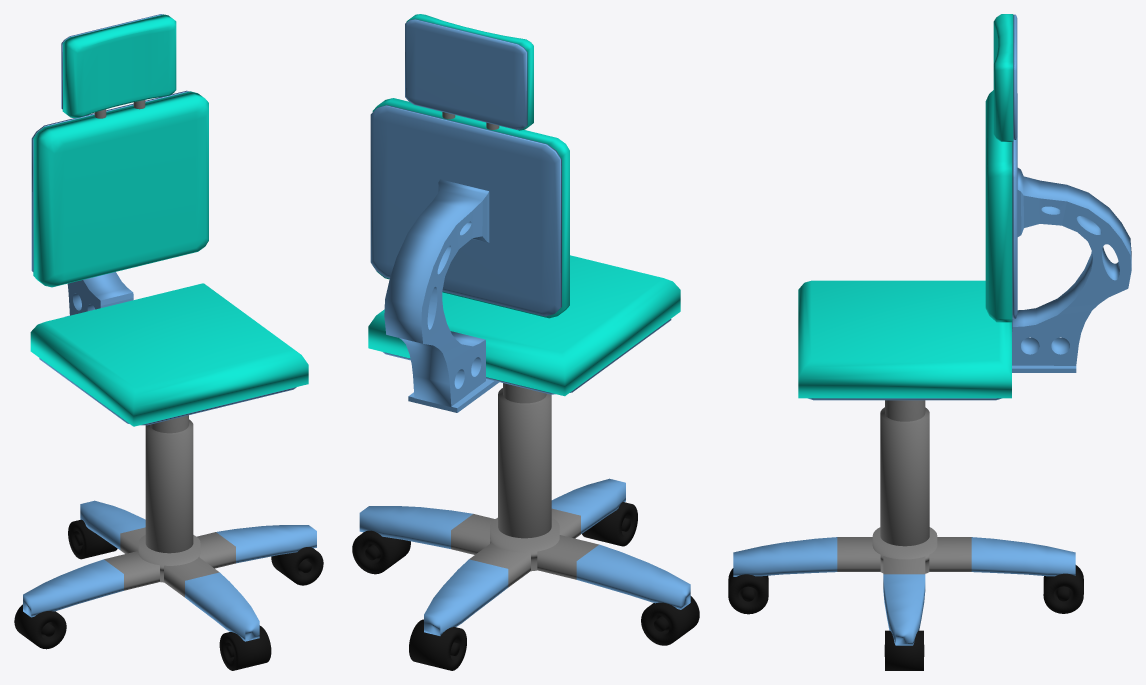
Rendered from chair_tier12.fbx.
The picture shows the model from 3 angles, left to right: view 1: azimuth 30°, elevation 25°; view 2: azimuth 150°, elevation 25°; view 3: azimuth 270°, elevation 25°; orthographic projection. The views are drawn at different scales.
Parts seen in each view (by area): view 1: Cube.007, Cube, Cube.009, Cube.002, Cube.001, Cylinder.001, Cube.006, Cylinder.005, Cylinder.004, Cylinder.003, Cylinder.006, Cylinder.002 (+3 smaller); view 2: Cube.005, Cube, Cube.006, Cube.008, Cube.002, Cube.001, Cylinder.001, Cube.007, Cylinder.006, Cylinder.004, Cylinder.003, Cylinder.005 (+4 smaller); view 3: Cube, Cube.006, Cube.001, Cylinder.001, Cube.007, Cube.002, Cube.009, Cylinder.006, Cylinder.005, Cylinder.003, Cylinder.002, Cube.005 (+2 smaller).
Boxes of the visible parts, x1,y1,x2,y2 form: Cube.007: (33,91,208,287); Cube: (30,283,308,426); Cube.009: (62,14,176,118); Cube.002: (23,525,316,617); Cube.001: (80,500,259,641); Cylinder.001: (145,419,193,553); Cube.006: (67,272,133,315); Cylinder.005: (219,625,271,670); Cylinder.004: (14,604,66,649); Cylinder.003: (271,547,323,585); Cylinder.006: (68,519,117,559); Cylinder.002: (138,535,200,582); Cube.005: (370,105,561,316); Cube: (368,255,680,396); Cube.006: (384,179,489,406); Cube.008: (405,19,527,129); Cube.002: (359,506,690,609); Cube.001: (424,478,625,635); Cylinder.001: (498,388,551,538); Cube.007: (372,98,569,318); Cylinder.006: (409,619,466,670); Cylinder.004: (641,596,699,645); Cylinder.003: (352,530,410,574); Cylinder.005: (582,502,637,546); Cube: (798,280,1011,398); Cube.006: (1012,168,1131,365); Cube.001: (733,537,1075,576); Cylinder.001: (880,407,929,546); Cube.007: (985,90,1012,322); Cube.002: (883,556,925,645); Cube.009: (993,14,1013,141); Cylinder.006: (1043,565,1083,613); Cylinder.005: (728,568,768,614); Cylinder.003: (884,630,924,670); Cylinder.002: (872,527,937,573); Cube.005: (1012,93,1017,318).
Size of the model in its own units: 70.78 by 127 by 82.
